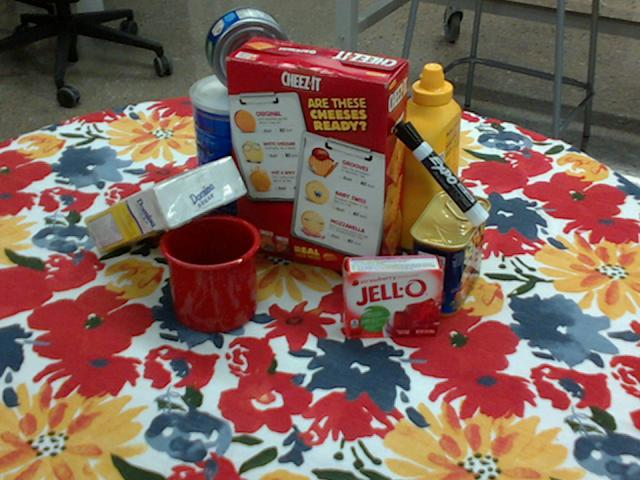cracker_box: (224, 37, 407, 280)
gelatin_box: (342, 255, 443, 339)
large_marker: (394, 120, 490, 226)
master_chef_can: (190, 71, 286, 226)
mug: (159, 213, 262, 332)
mustard_bottle: (396, 64, 461, 253)
potted_meat_can: (410, 190, 492, 317)
sugar_box: (81, 157, 246, 253)
tomato_soup_can: (343, 106, 404, 212)
tuna_fish_can: (204, 7, 288, 94)
